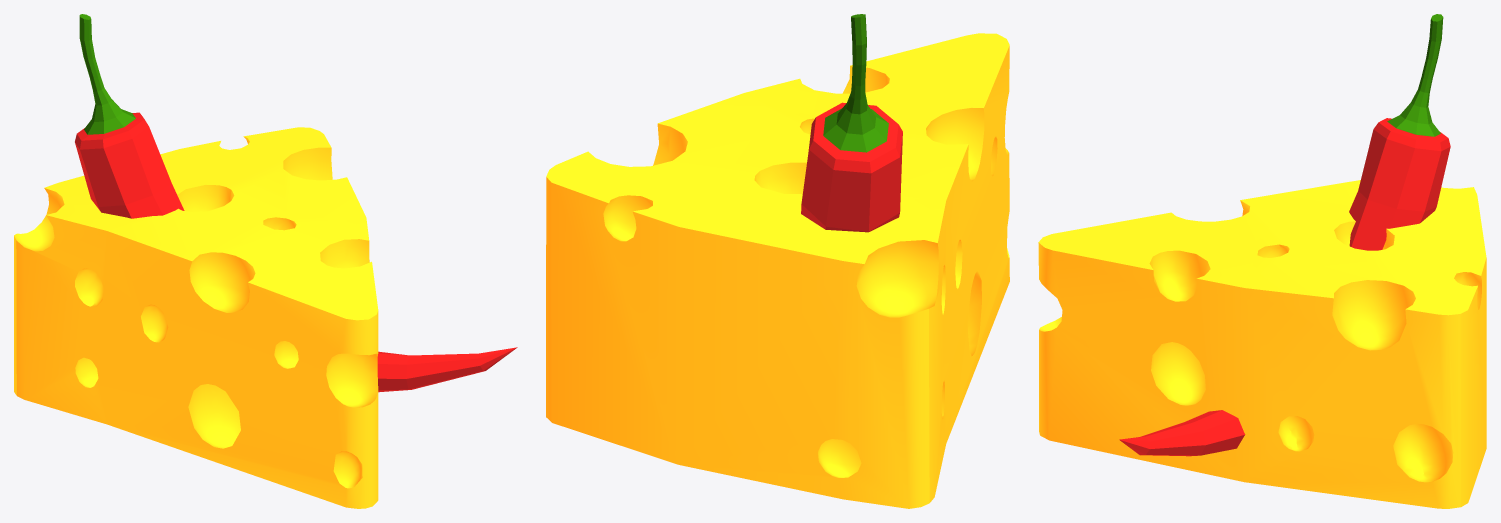
The model's file is cheese--flaminhot.glb.
The picture shows the model from 3 angles, left to right: view 1: azimuth 30°, elevation 25°; view 2: azimuth 150°, elevation 25°; view 3: azimuth 270°, elevation 25°; orthographic projection. The views are drawn at different scales.
Parts seen in each view (by area): view 1: queso_enchilado; view 2: queso_enchilado; view 3: queso_enchilado.
Boxes of the visible parts, <box> form: queso_enchilado: <box>14,14,517,508</box>; queso_enchilado: <box>546,14,1009,508</box>; queso_enchilado: <box>1038,14,1486,508</box>.
Size of the model in its own units: 175 by 183 by 198.
